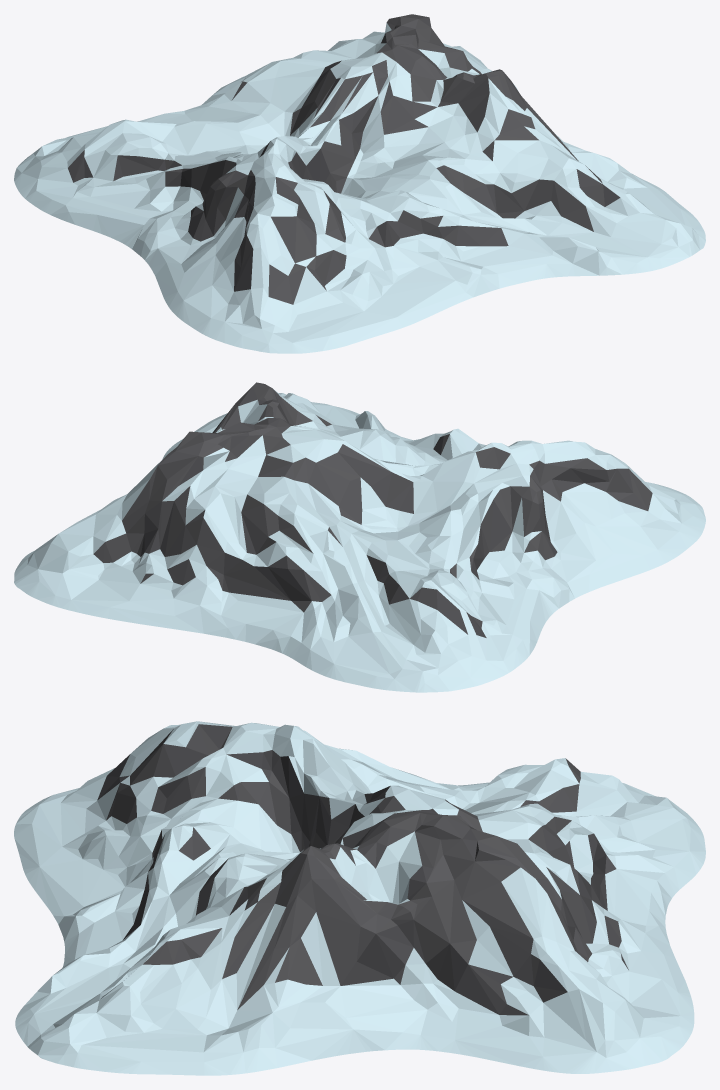
File: bg-snow-b.glb
3 renders of one model, top to bottom at view 1: azimuth 30°, elevation 25°; view 2: azimuth 150°, elevation 25°; view 3: azimuth 270°, elevation 25°, orthographic. The views are drawn at different scales.
Visible parts, largest first — view 1: SM_Env_Mountains_Snow_02; view 2: SM_Env_Mountains_Snow_02; view 3: SM_Env_Mountains_Snow_02.
Boxes of the visible parts, x1,y1,x2,y2 form: SM_Env_Mountains_Snow_02: (14, 14, 705, 353); SM_Env_Mountains_Snow_02: (14, 382, 705, 692); SM_Env_Mountains_Snow_02: (14, 721, 705, 1075).
Bounding box in the file's own units: 20.21 × 4.97 × 19.97.
Materials: 1 (1 with a texture image).
